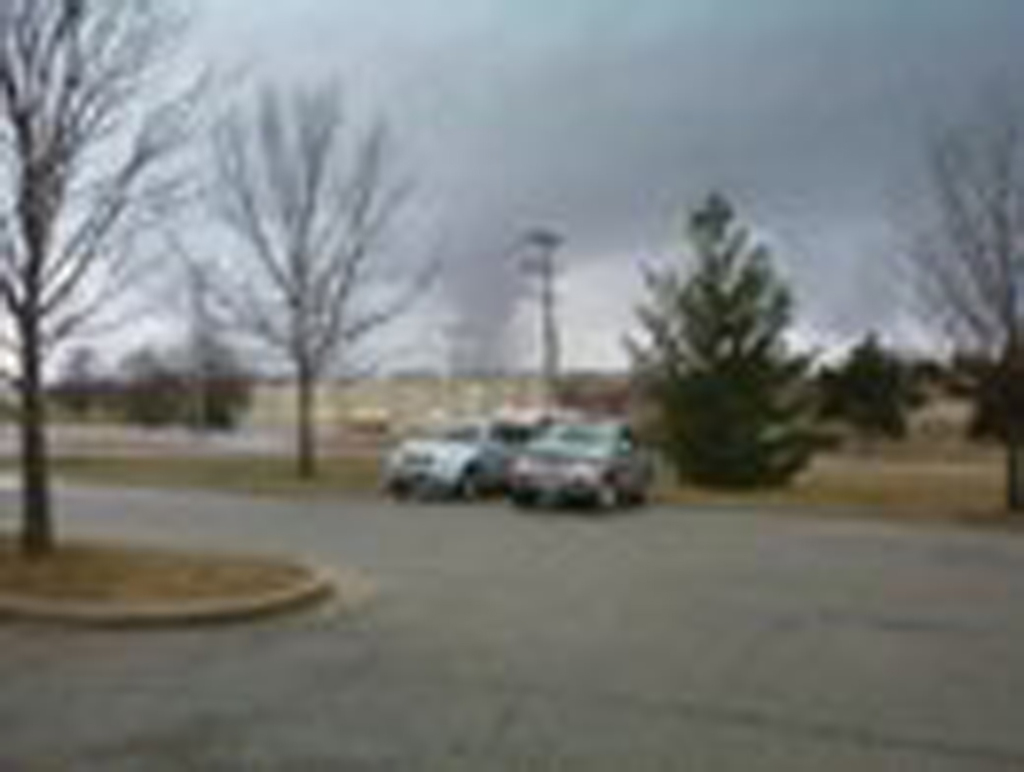Car: (511, 420, 656, 511), (387, 420, 535, 503)
